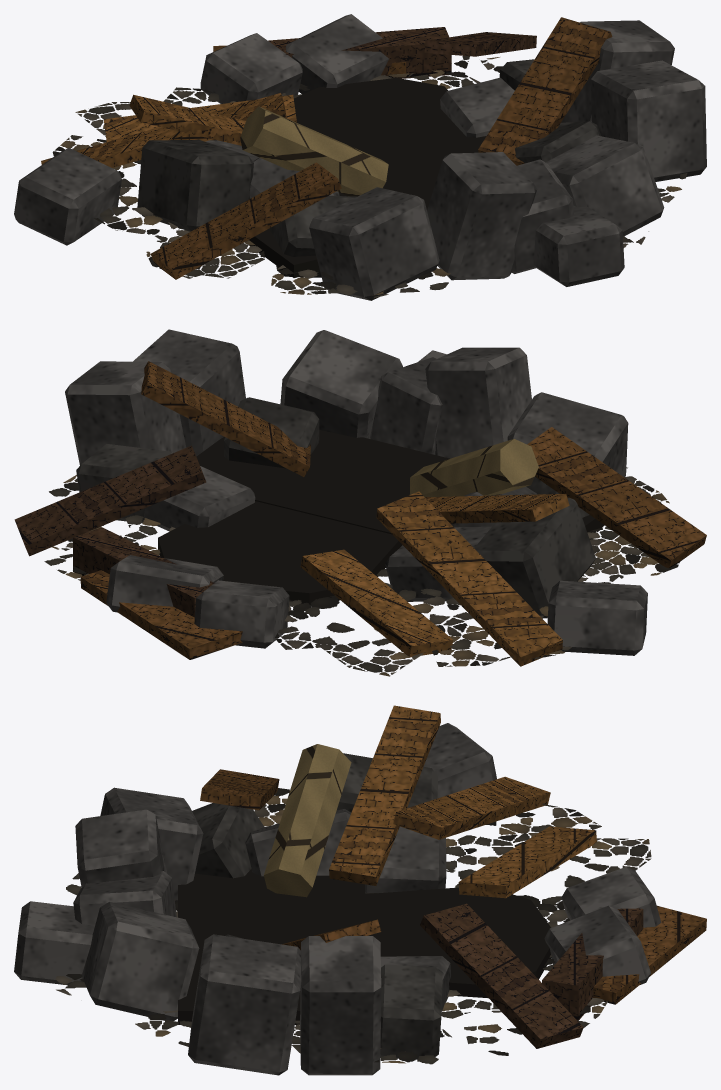
Rendered from CreWell01a.glb.
3 renders of one model, top to bottom at view 1: azimuth 30°, elevation 25°; view 2: azimuth 150°, elevation 25°; view 3: azimuth 270°, elevation 25°, orthographic. The views are drawn at different scales.
Visible parts, largest first — view 1: w_basalt; view 2: w_basalt; view 3: w_basalt.
Boxes of the visible parts, x1=… form: w_basalt: x1=14, y1=14, x2=706, y2=300; w_basalt: x1=14, y1=329, x2=706, y2=676; w_basalt: x1=14, y1=705, x2=706, y2=1075.
Size of the model in its own units: 2.82 by 0.6225 by 2.67.
5 materials, 4 textured.
